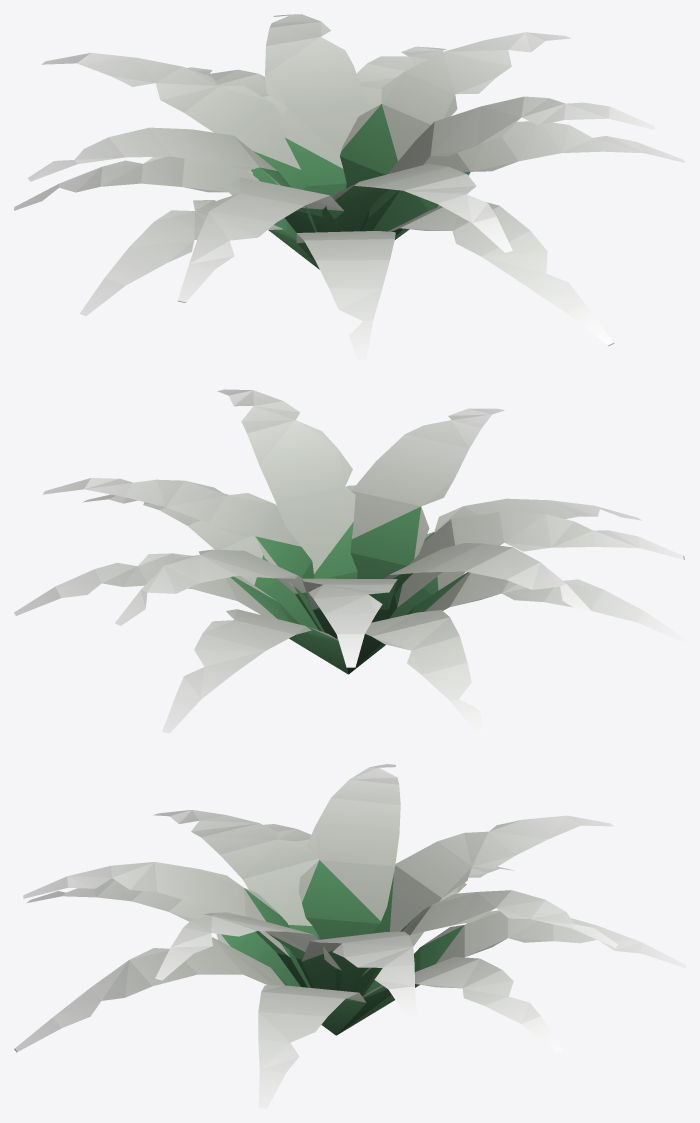
File: SnowDoubleFern.fbx
The picture shows the model from 3 angles, top to bottom: view 1: azimuth 30°, elevation 25°; view 2: azimuth 150°, elevation 25°; view 3: azimuth 270°, elevation 25°; orthographic projection. The views are drawn at different scales.
Parts seen in each view (by area): view 1: SnowDoubleFern; view 2: SnowDoubleFern; view 3: SnowDoubleFern.
Part boxes in pixels (box(x1,y1,x2,y2)): SnowDoubleFern: box(14, 14, 685, 360); SnowDoubleFern: box(14, 389, 685, 735); SnowDoubleFern: box(14, 764, 685, 1108).
Size of the model in its own units: 433 by 127 by 434.
